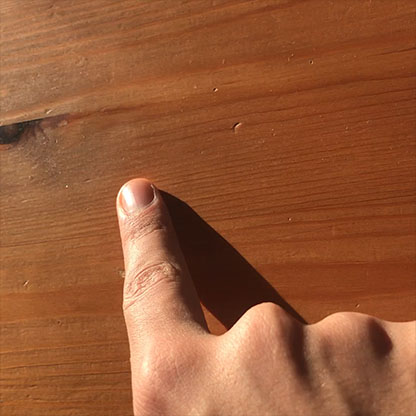fingertip: (108, 177, 165, 223)
